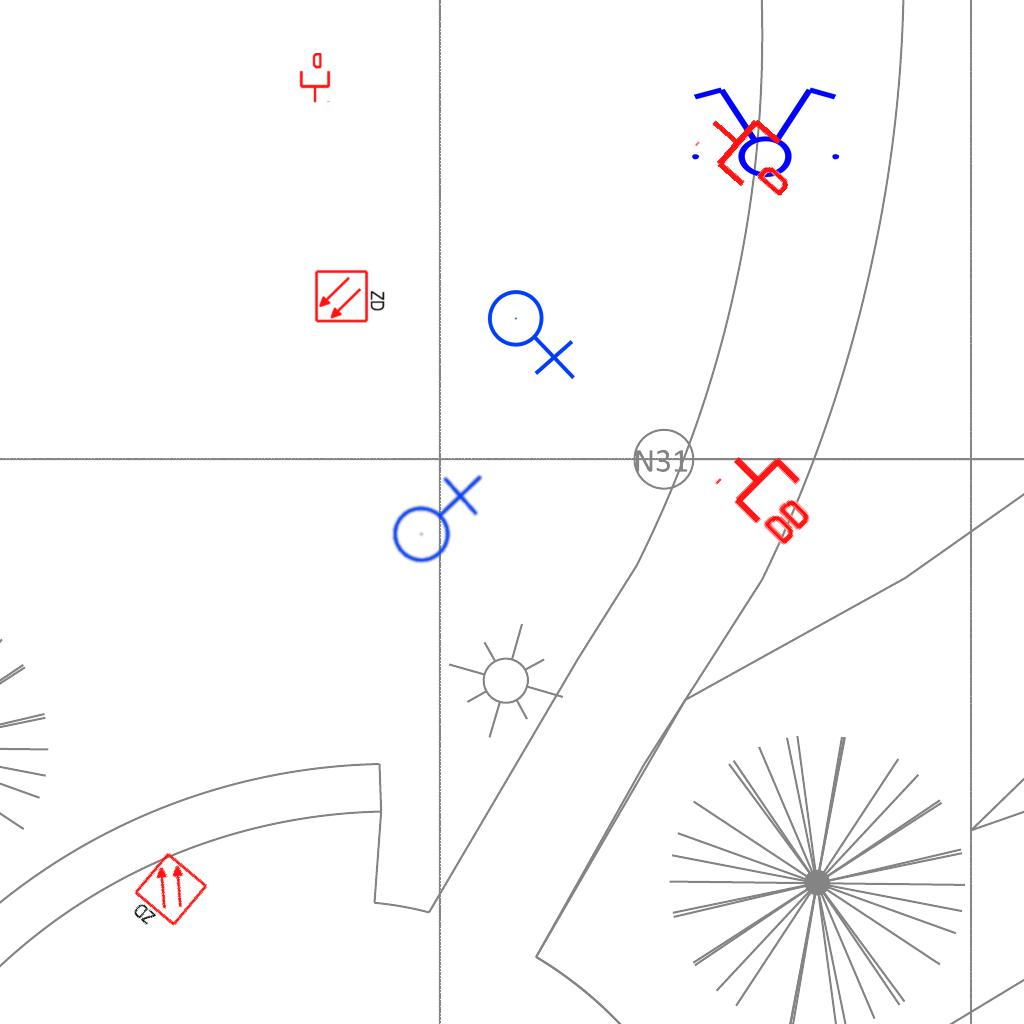Datenanschluss_einfach: (690, 95, 811, 213), (298, 53, 332, 103)
Datenanschluss_zweifach: (710, 431, 833, 554)
Elektroanschluss_allgemein_230V_Geraeteanschlussdose_230V: (384, 470, 483, 564), (486, 281, 580, 380)
Serienschalter: (680, 83, 848, 179)
ZD_Melder_in_Zwischendecke_mit_Revisionsoeffnung_mind_40_x_40_cm: (119, 850, 212, 944), (314, 267, 388, 324)
